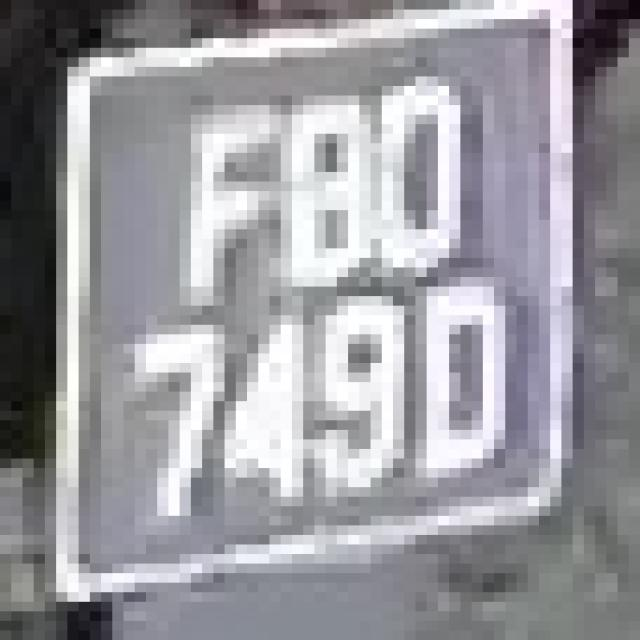4: (202, 286, 314, 526)
7: (90, 325, 213, 516)
9: (292, 296, 393, 478)
B: (258, 77, 371, 296)
D: (393, 268, 516, 478)
F: (134, 86, 280, 287)
O: (370, 76, 483, 277)
